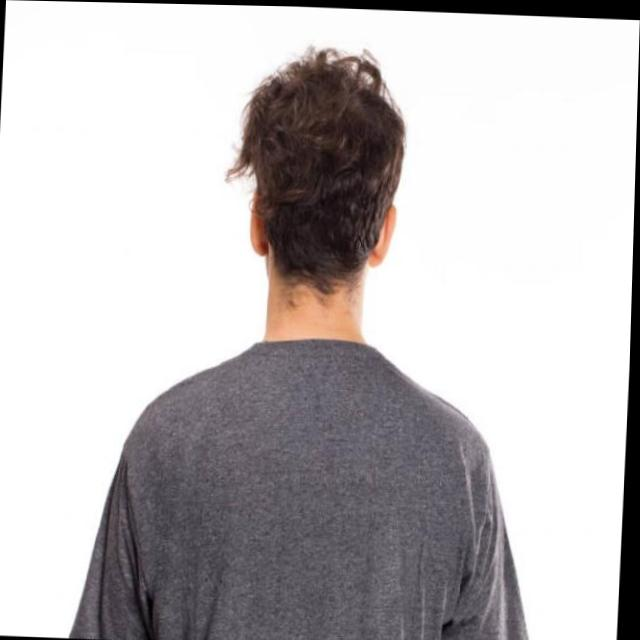no helmet: (227, 68, 412, 353)
